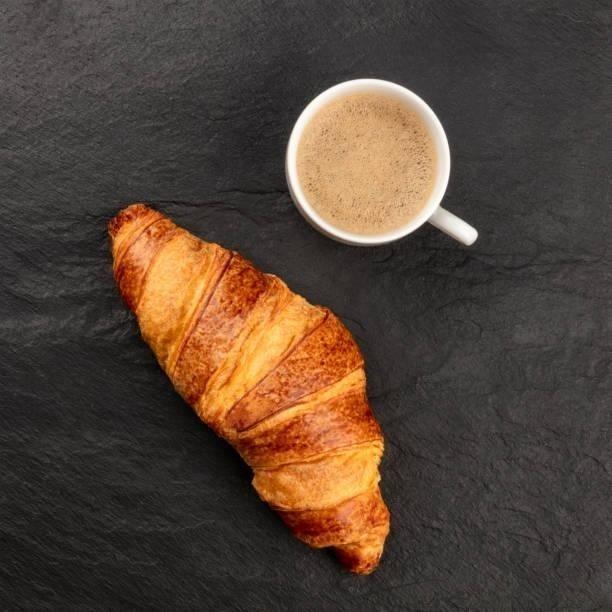cup-handle: (283, 76, 478, 254)
